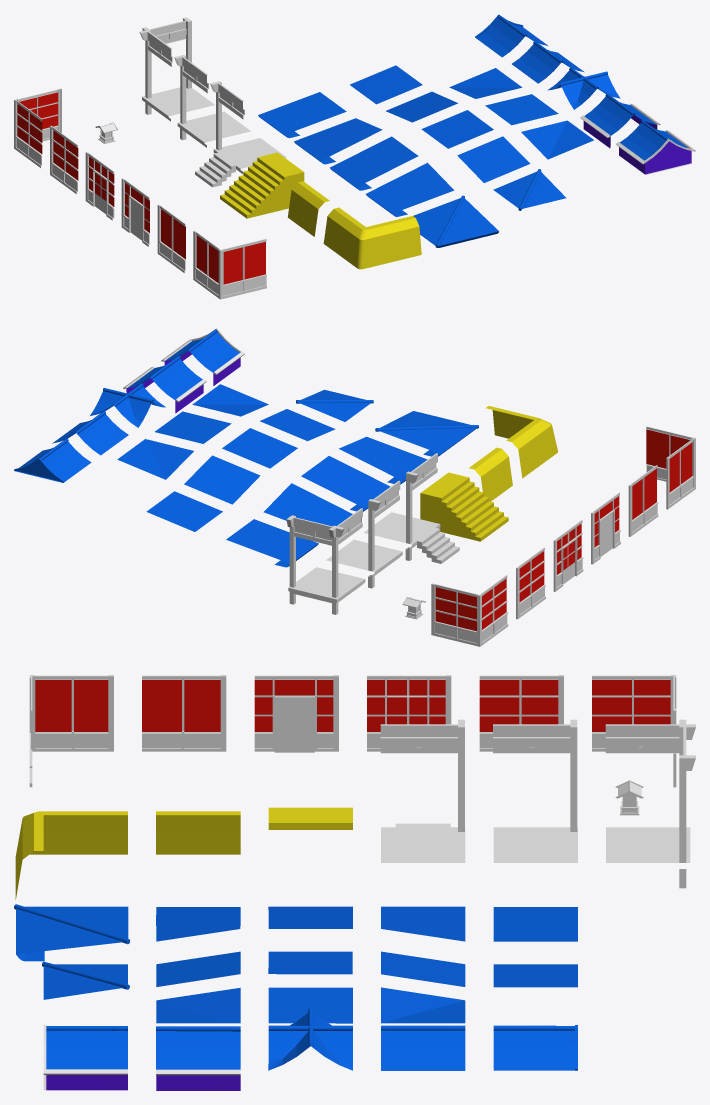
File: modular.fbx
3 renders of one model, top to bottom at view 1: azimuth 30°, elevation 25°; view 2: azimuth 150°, elevation 25°; view 3: azimuth 270°, elevation 25°, orthographic. The views are drawn at different scales.
Visible parts, largest first — view 1: AssetModules.012, AssetModules.001, AssetModules.010, AssetModules.007, AssetModules.003, AssetModules.006, AssetModules.017, AssetModules.026, AssetModules.016, AssetModules.015, AssetModules.009, AssetModules.013 (+18 smaller); view 2: AssetModules.006, AssetModules.007, AssetModules.010, AssetModules.003, AssetModules.001, AssetModules.012, AssetModules.017, AssetModules.009, AssetModules.015, AssetModules.026, AssetModules.021, AssetModules.027 (+18 smaller); view 3: AssetModules.001, AssetModules, AssetModules.007, AssetModules.002, AssetModules.003, AssetModules.009, AssetModules.026, AssetModules.027, AssetModules.017, AssetModules.012, AssetModules.006, AssetModules.004 (+19 smaller).
Boxes of the visible parts, <box> form: AssetModules.012: <box>323,207,421,269</box>; AssetModules.001: <box>193,231,266,299</box>; AssetModules.010: <box>220,152,304,218</box>; AssetModules.007: <box>139,17,214,121</box>; AssetModules.003: <box>195,81,286,187</box>; AssetModules.006: <box>14,88,61,167</box>; AssetModules.017: <box>413,195,498,247</box>; AssetModules.026: <box>616,120,695,174</box>; AssetModules.016: <box>365,162,454,216</box>; AssetModules.015: <box>330,136,418,190</box>; AssetModules.009: <box>174,55,250,147</box>; AssetModules.013: <box>258,92,346,137</box>; AssetModules.006: <box>431,575,508,646</box>; AssetModules.007: <box>286,508,365,614</box>; AssetModules.010: <box>420,472,508,541</box>; AssetModules.003: <box>363,453,459,563</box>; AssetModules.001: <box>646,426,695,509</box>; AssetModules.012: <box>486,406,557,478</box>; AssetModules.017: <box>375,411,478,456</box>; AssetModules.009: <box>326,480,402,588</box>; AssetModules.015: <box>301,456,390,511</box>; AssetModules.026: <box>161,328,244,385</box>; AssetModules.021: <box>184,455,260,504</box>; AssetModules.027: <box>123,356,206,413</box>; AssetModules.001: <box>29,675,113,787</box>; AssetModules: <box>254,675,338,752</box>; AssetModules.007: <box>605,719,695,888</box>; AssetModules.002: <box>142,675,226,751</box>; AssetModules.003: <box>380,719,465,862</box>; AssetModules.009: <box>493,719,577,862</box>; AssetModules.026: <box>43,1025,127,1090</box>; AssetModules.027: <box>156,1026,240,1090</box>; AssetModules.017: <box>14,904,129,961</box>; AssetModules.012: <box>15,811,127,899</box>; AssetModules.006: <box>592,675,676,787</box>; AssetModules.004: <box>367,675,451,751</box>.
Size of the model in its own units: 3091 by 511 by 2426.
